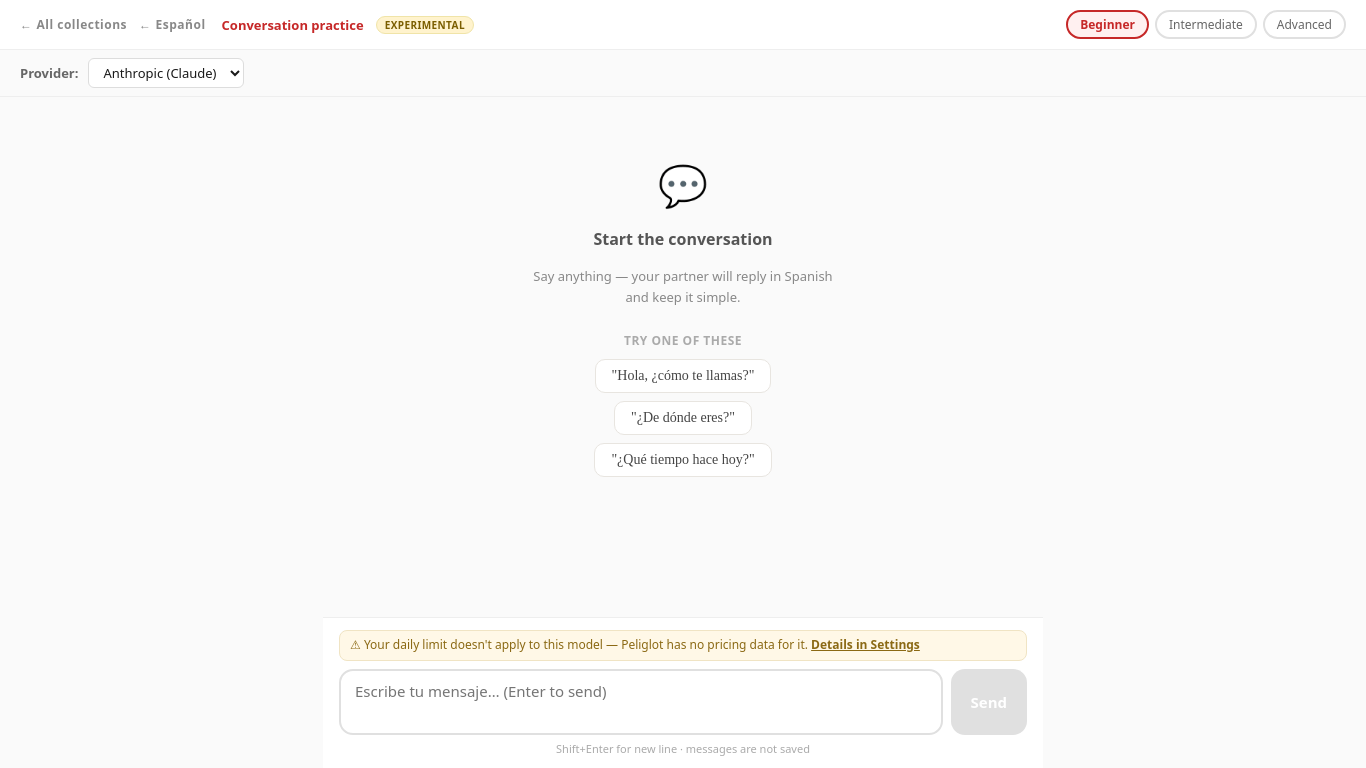
error handling › shows inline error message on LlmProviderError(unauthorized)
In the text box named "message input": (641, 702) [339,669,942,735], type "Hola"
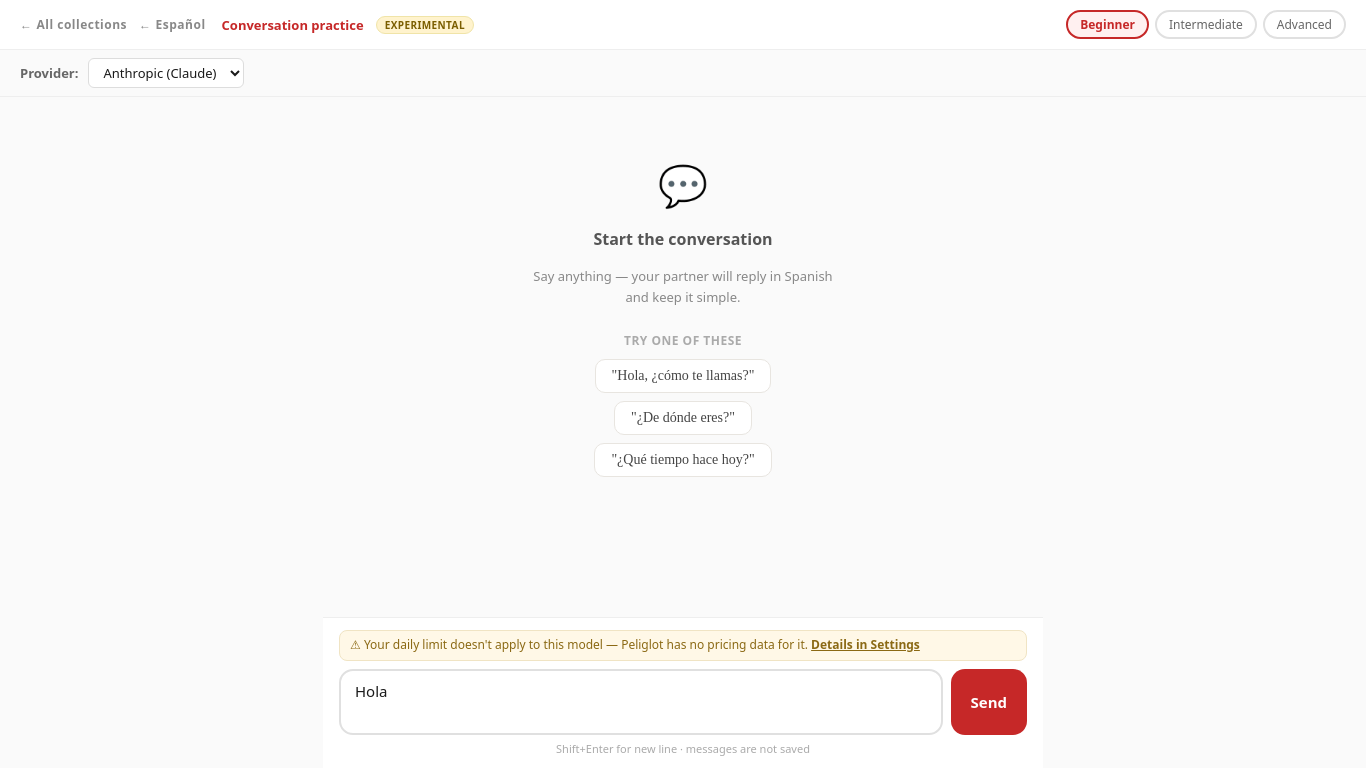
Click the button with aria-label "send message": (989, 702) [950,669,1027,735]
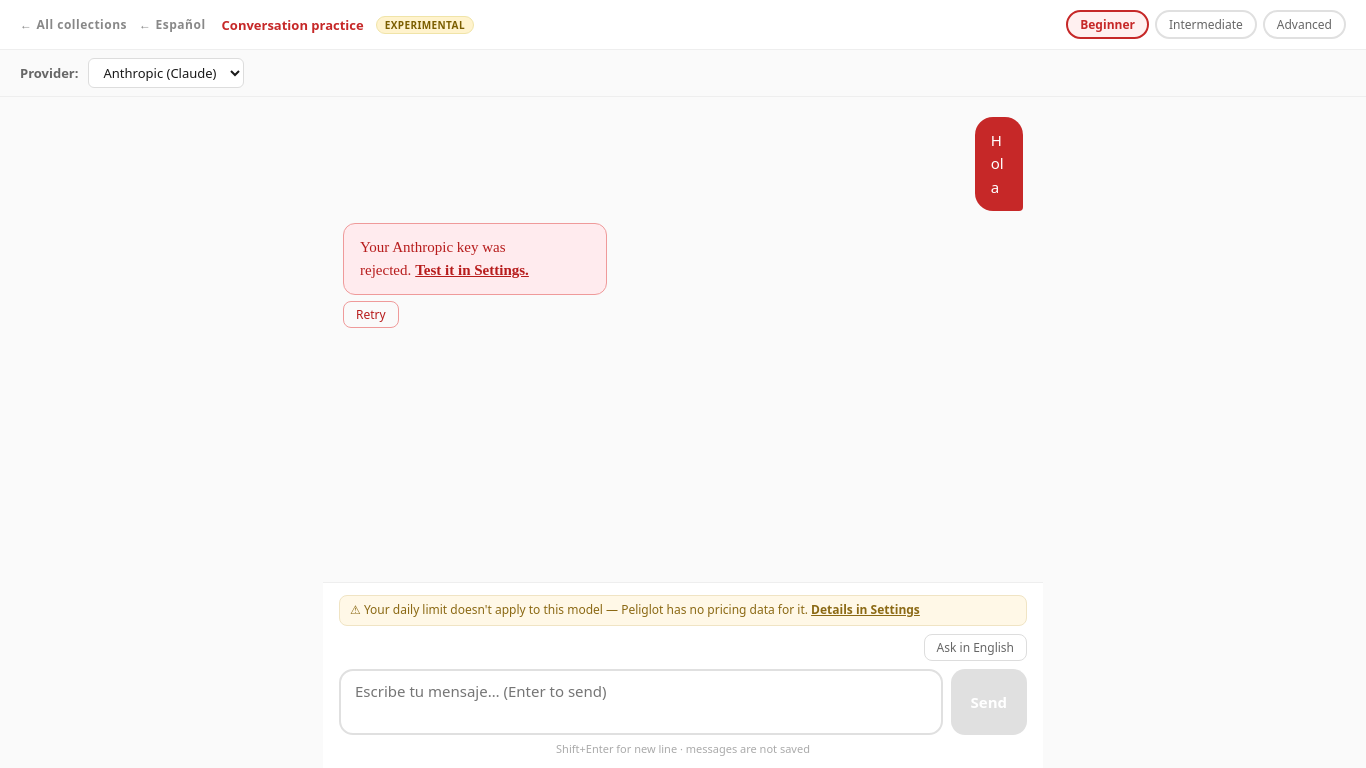
Now the text "Your Anthropic key was rejected. Test it in Settings." is shown, box [343,223,607,295]
